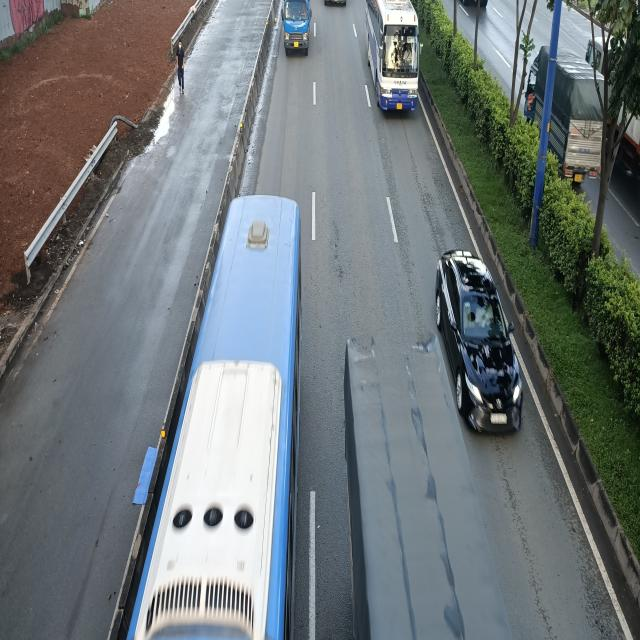car: (437, 251, 524, 435)
coach: (126, 197, 302, 640), (367, 2, 425, 116)
truck: (281, 0, 312, 53)
